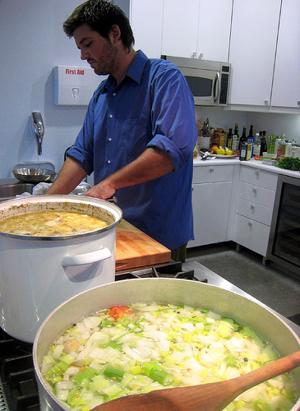person: (44, 1, 198, 263)
